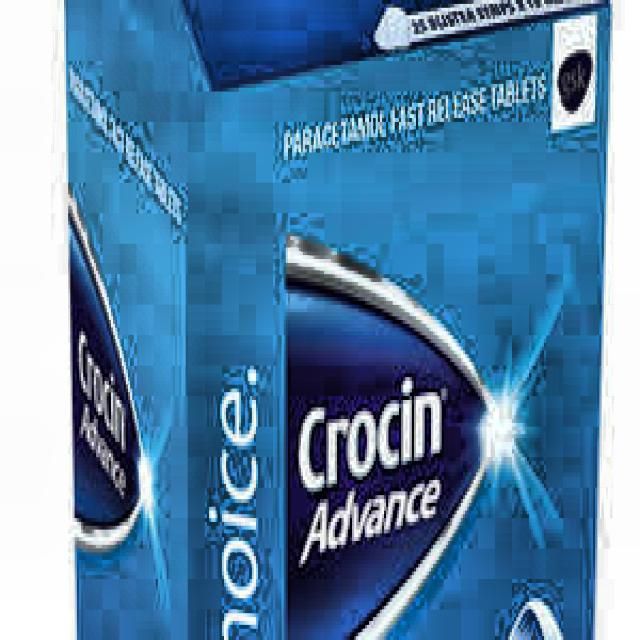Crocin: (288, 254, 477, 608)
